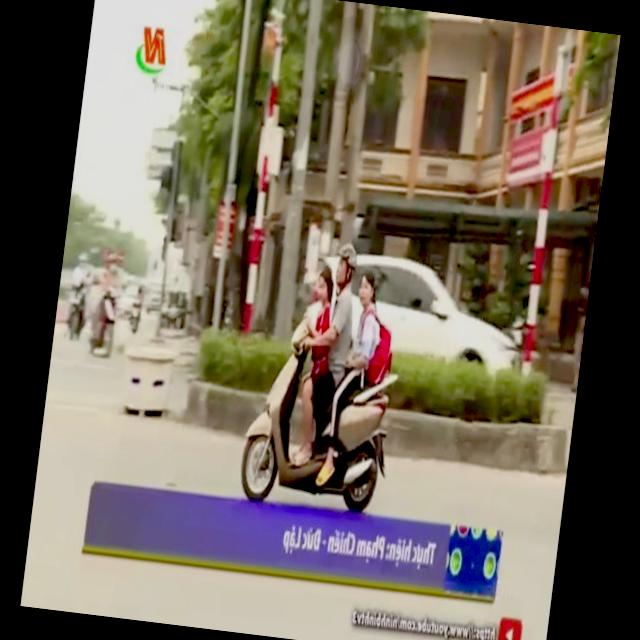motorcycle: (230, 309, 408, 519)
person: (320, 264, 396, 452), (312, 244, 362, 404), (294, 262, 344, 393)
rider_region: (228, 242, 414, 516)
